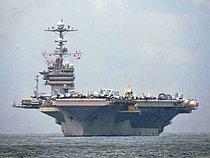MIL_Ship: (10, 18, 198, 137)
